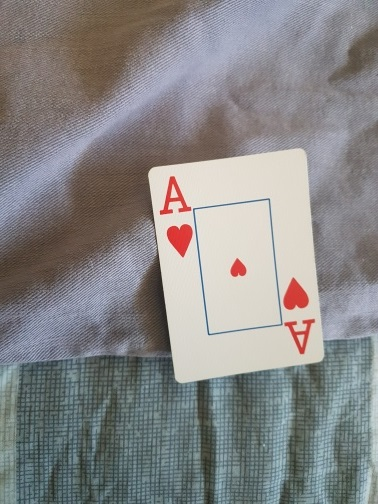ace: (148, 148, 325, 384)
